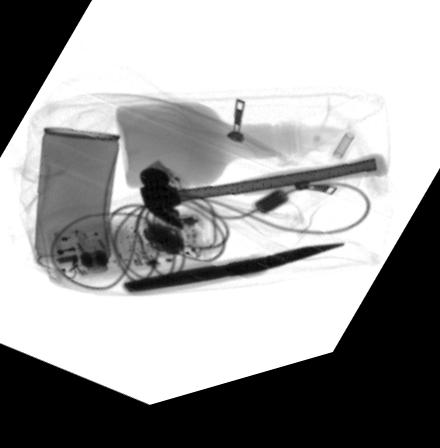Hammer: (136, 173, 387, 241)
Pliers: (118, 261, 346, 301)
